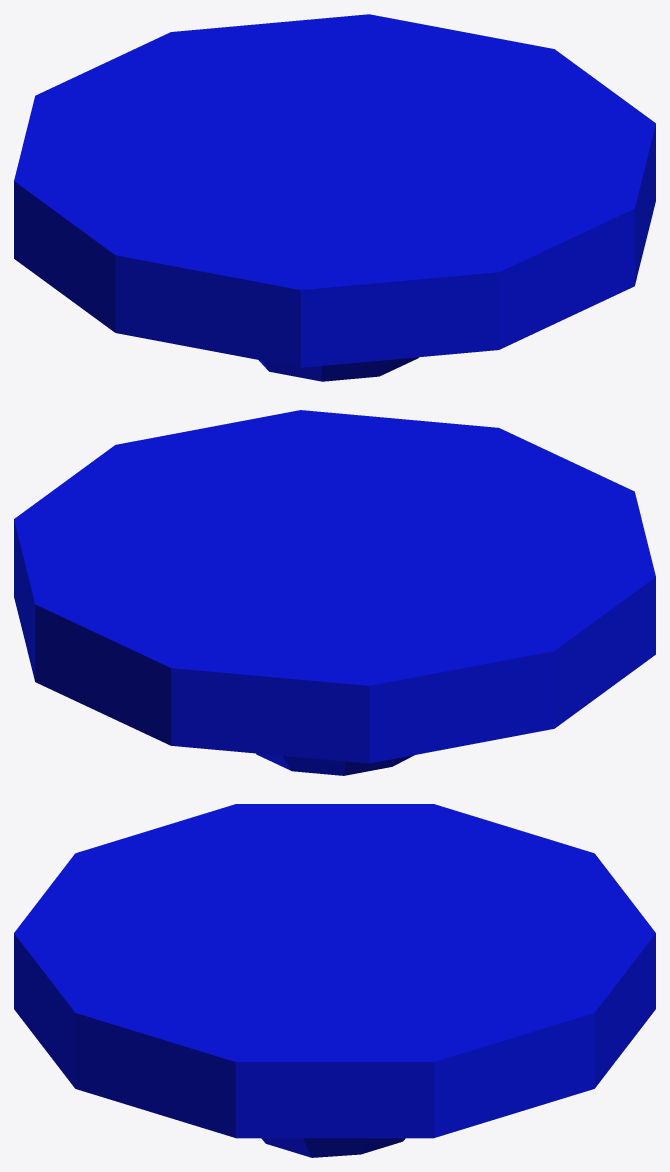
Rendered from 1Ratchet.fbx.
The picture shows the model from 3 angles, top to bottom: view 1: azimuth 30°, elevation 25°; view 2: azimuth 150°, elevation 25°; view 3: azimuth 270°, elevation 25°; orthographic projection. The views are drawn at different scales.
Visible parts, largest first — view 1: 1Ratchet; view 2: 1Ratchet; view 3: 1Ratchet.
Boxes of the visible parts, x1,y1,x2,y2 form: 1Ratchet: (14,14,655,381); 1Ratchet: (14,410,655,775); 1Ratchet: (14,804,655,1157).
Bounding box in the file's own units: 437 × 148 × 459.
